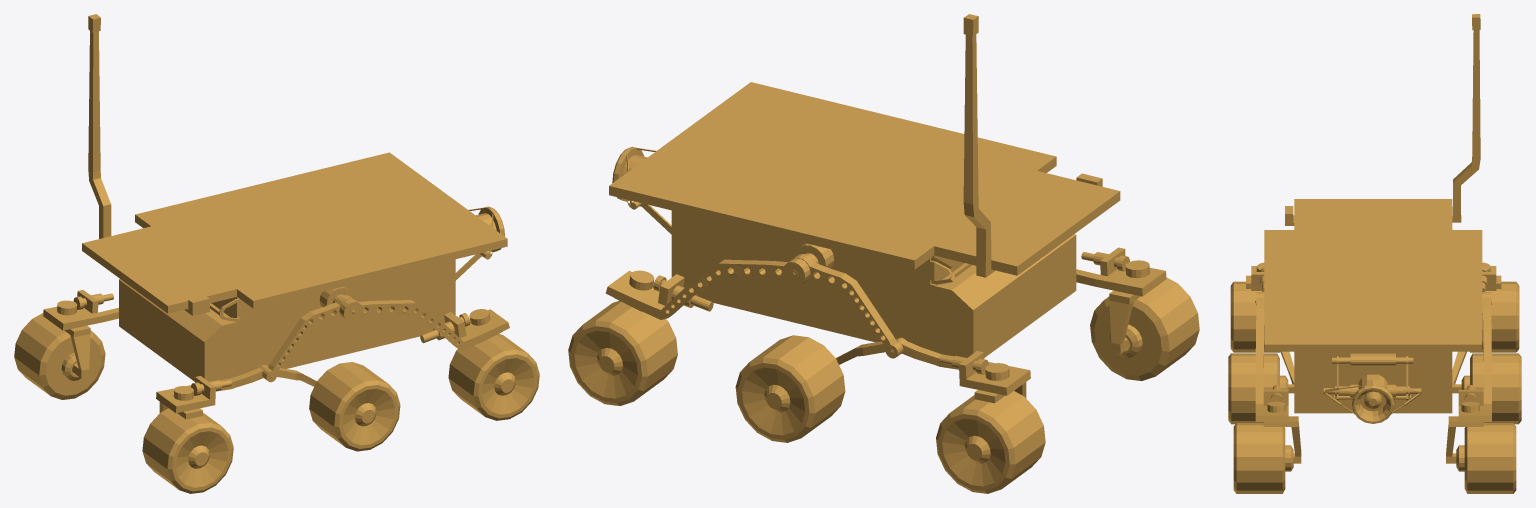
The model's file is sojourner-rover.glb.
The picture shows the model from 3 angles, left to right: view 1: azimuth 30°, elevation 25°; view 2: azimuth 150°, elevation 25°; view 3: azimuth 270°, elevation 25°; orthographic projection. The views are drawn at different scales.
Bounding box in the file's own units: 1.22 × 1.1 × 0.8378.
